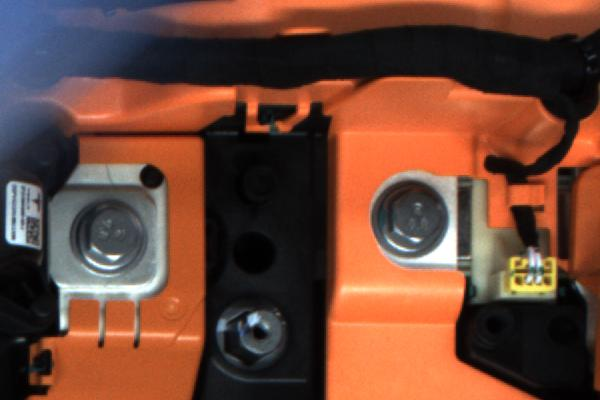nut_b: (360, 176, 448, 262), (63, 196, 149, 282)
